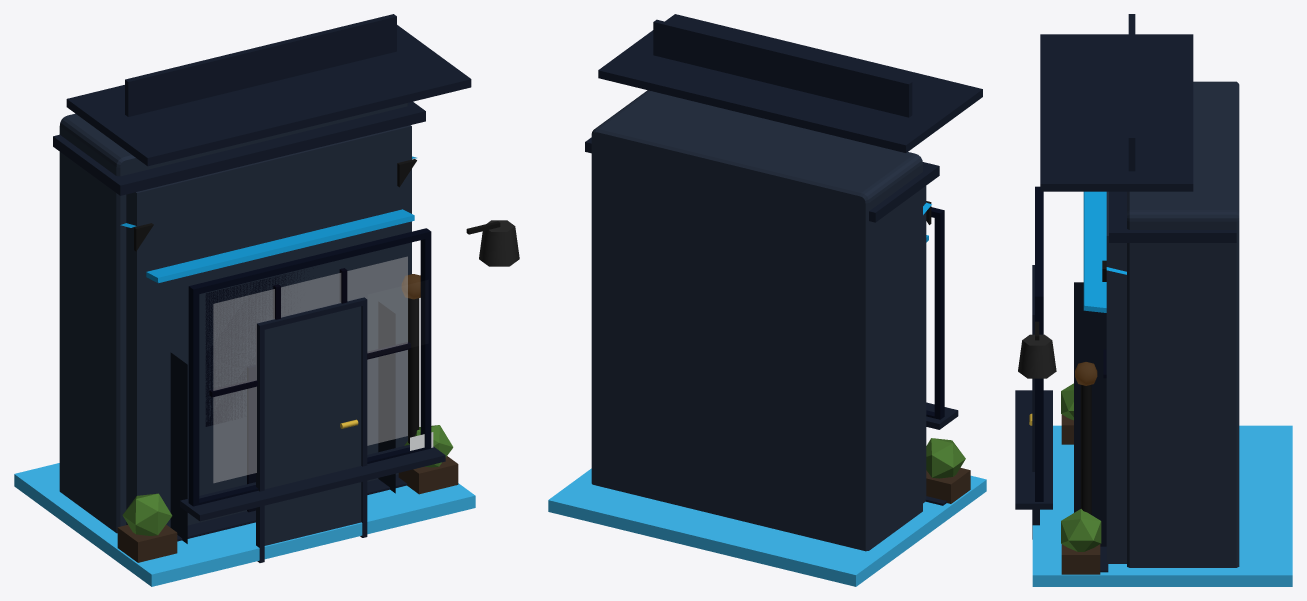
File: modern.glb
The picture shows the model from 3 angles, left to right: view 1: azimuth 30°, elevation 25°; view 2: azimuth 150°, elevation 25°; view 3: azimuth 270°, elevation 25°; orthographic projection. The views are drawn at different scales.
Visible parts, largest first — view 1: object 33, FacadeBody, Door_Leaf (×2), Roof_Style, FacadeGlass, Trim, Sign_Plane, object 38, object 35, Interior_Recess, object 9, Door_Frame (+12 smaller); view 2: FacadeBody, Roof_Style, Trim, Sign_Plane, object 7, object 38, Foliage_Left, object 33, Planter_Left; view 3: FacadeBody, Roof_Style, Trim, object 33, Interior_Recess, object 9, Awning_Canopy, object 38, Lantern_Housing (×2), object 39, Foliage_Right, object 8 (+5 smaller).
Part boxes in pixels (<box>): object 33: <box>126,125,411,527</box>; FacadeBody: <box>59,103,408,533</box>; Door_Leaf (×2): <box>247,306,361,545</box>; Roof_Style: <box>66,25,471,166</box>; FacadeGlass: <box>213,256,407,482</box>; Trim: <box>14,463,475,586</box>; Sign_Plane: <box>125,14,396,116</box>; object 38: <box>53,101,425,195</box>; object 35: <box>205,268,313,426</box>; Interior_Recess: <box>170,301,395,543</box>; object 9: <box>180,444,445,521</box>; Door_Frame: <box>256,297,367,562</box>; FacadeBody: <box>591,90,922,551</box>; Roof_Style: <box>598,14,982,152</box>; Trim: <box>548,468,986,586</box>; Sign_Plane: <box>653,19,912,117</box>; object 7: <box>934,209,944,418</box>; object 38: <box>585,137,939,222</box>; Foliage_Left: <box>926,438,965,478</box>; object 33: <box>923,186,926,503</box>; Planter_Left: <box>926,467,970,503</box>; FacadeBody: <box>1127,81,1239,567</box>; Roof_Style: <box>1040,34,1193,191</box>; Trim: <box>1032,425,1292,586</box>; object 33: <box>1106,191,1126,563</box>; Interior_Recess: <box>1074,282,1106,546</box>; object 9: <box>1015,390,1052,509</box>; Awning_Canopy: <box>1083,191,1106,312</box>; object 38: <box>1109,191,1236,242</box>; Lantern_Housing (×2): <box>1018,334,1097,385</box>; object 39: <box>1080,384,1091,514</box>; Foliage_Right: <box>1061,509,1101,551</box>; object 8: <box>1035,294,1043,499</box>.
Bounding box in the file's own units: 3.71 × 4.49 × 2.58.
